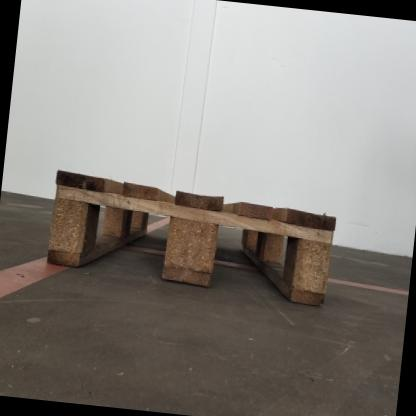BoxFace: (43, 168, 339, 310)
